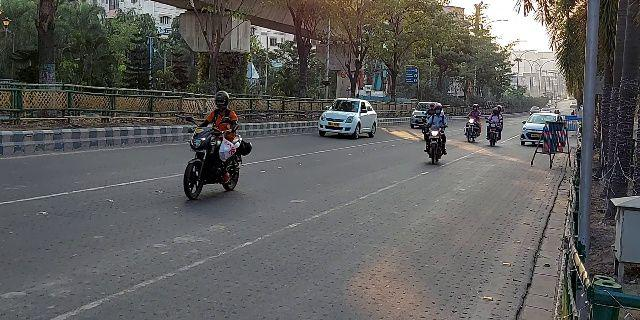Car: (315, 96, 379, 141), (518, 109, 556, 150)
Motorbike: (179, 89, 252, 200), (420, 101, 452, 170), (482, 102, 503, 149), (463, 98, 483, 145)
